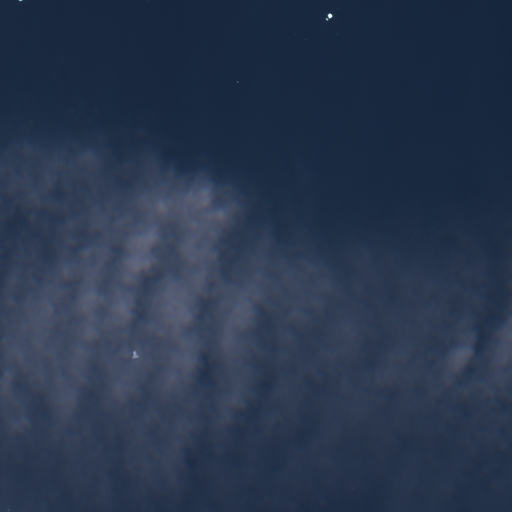Iceberg: (326, 13, 332, 20), (132, 351, 138, 358), (18, 0, 22, 1), (237, 81, 238, 82)
